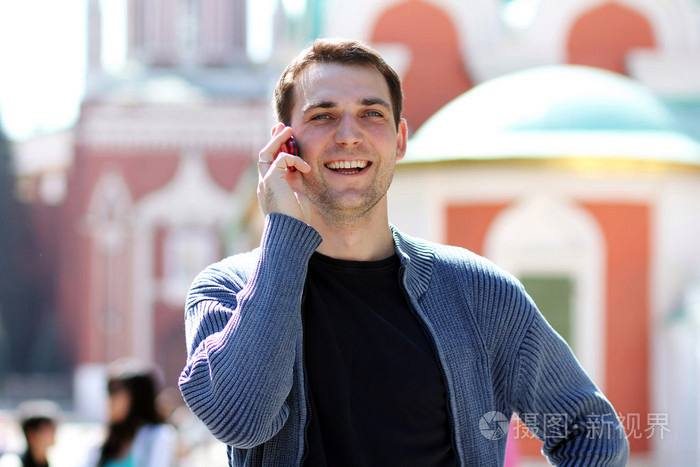calling: (254, 120, 313, 229)
